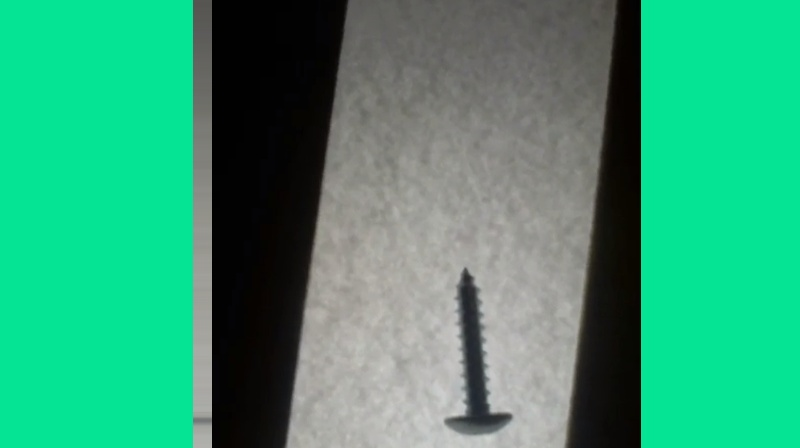S003: (442, 260, 514, 440)
